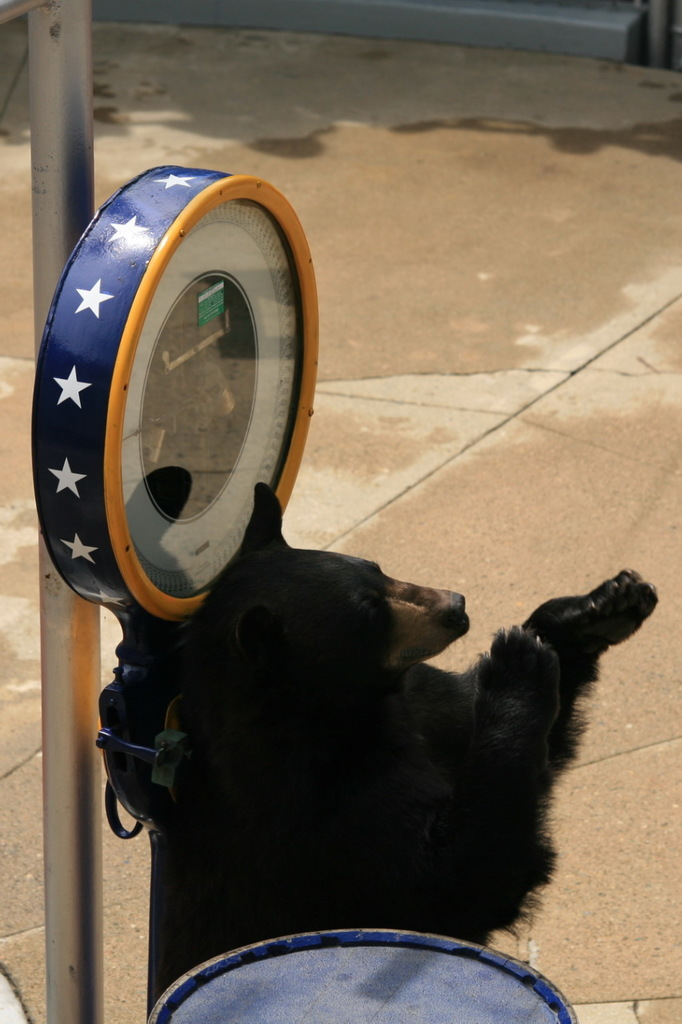Animal: (95, 483, 665, 1020)
